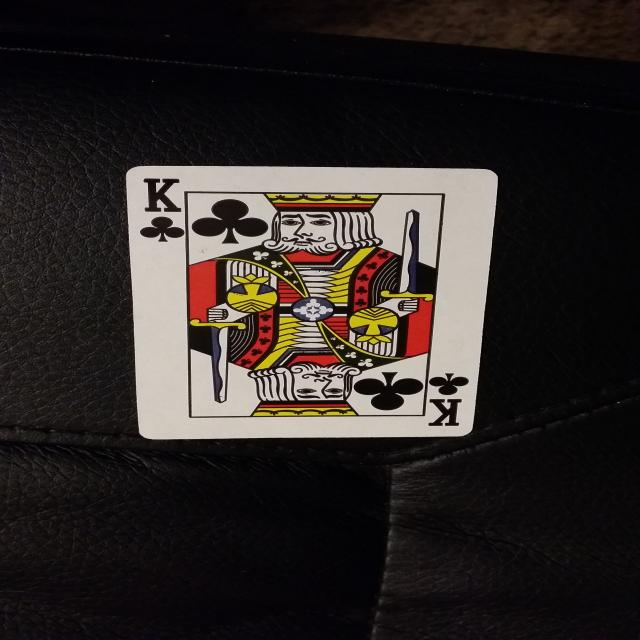Kc: (131, 170, 195, 246), (418, 368, 474, 433)
